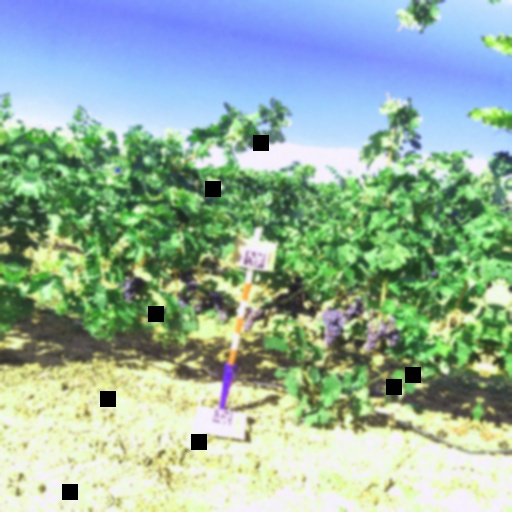QR: (243, 250, 267, 269), (210, 408, 235, 426)
